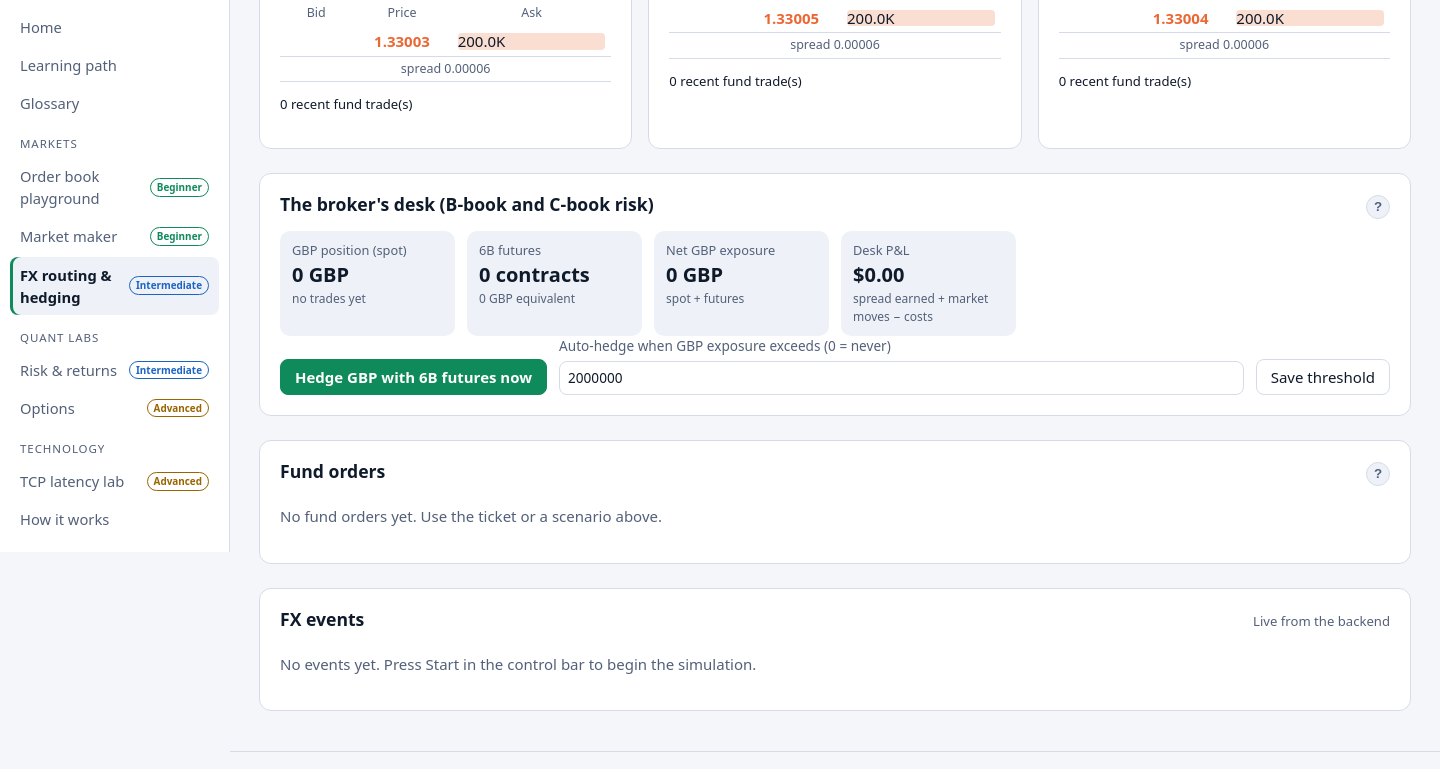
Test case: FX routing page › explains each book's role and lets the broker's desk hedge with 6B futures
(page scrolled)
Click the button "Hedge GBP with 6B futures now": x=414, y=377 [280,359,547,395]
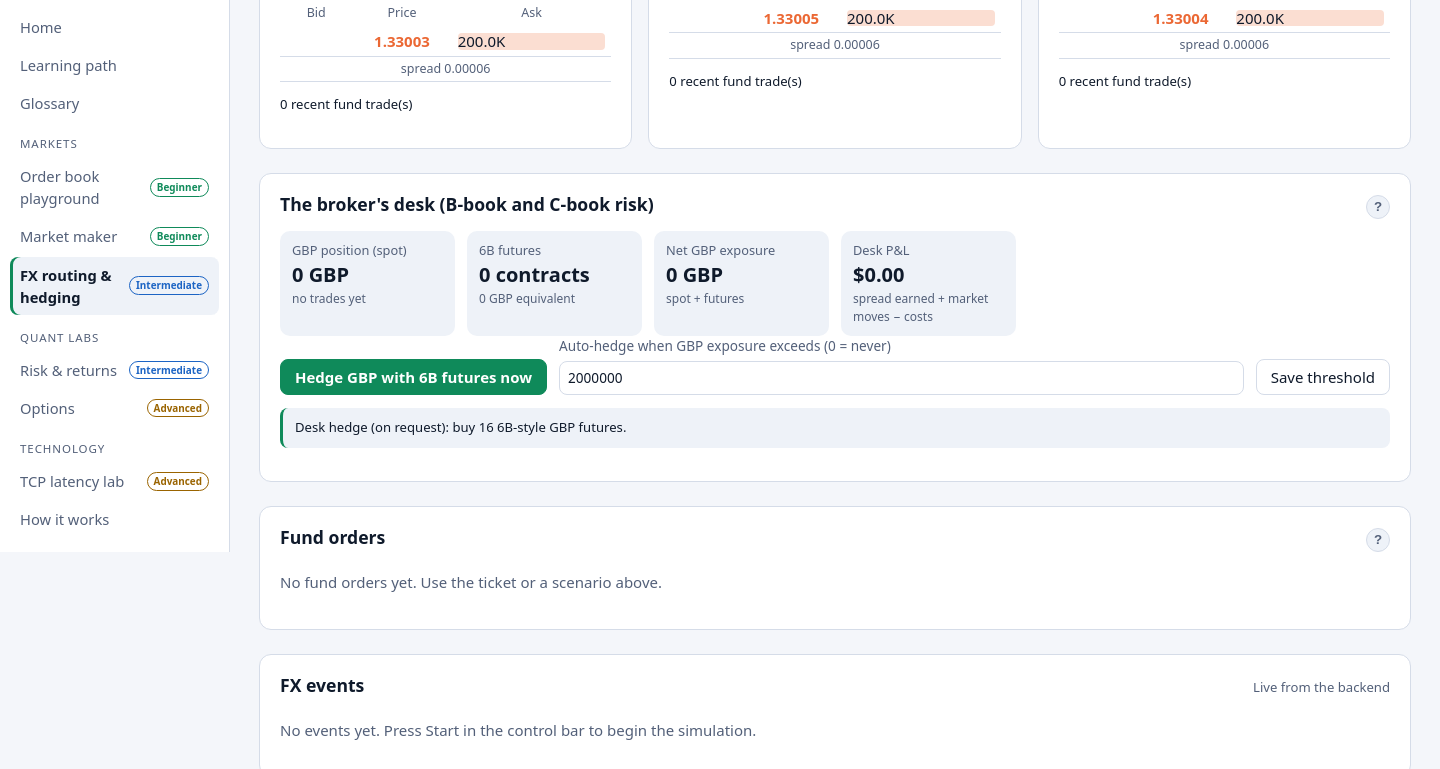
Expected: the text "Desk hedge (on request): buy 16 6B-style GBP futures." is shown, [280,408,1390,448]
